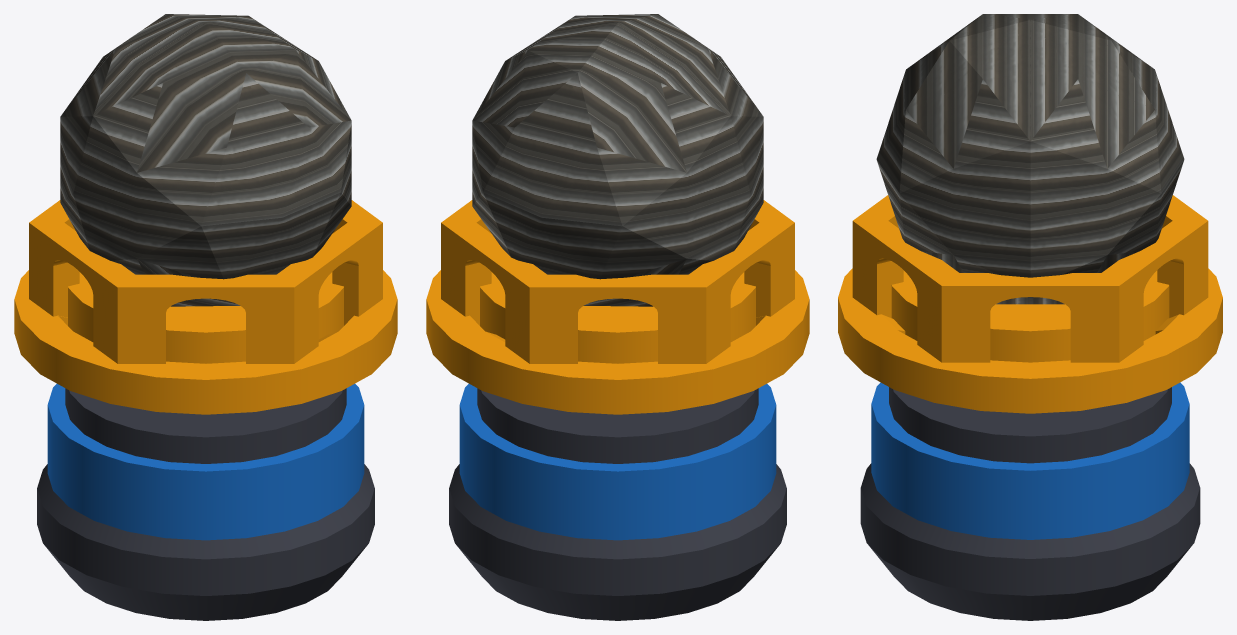
The model's file is tower_vivid_malachite.obj.
3 renders of one model, left to right at view 1: azimuth 30°, elevation 25°; view 2: azimuth 150°, elevation 25°; view 3: azimuth 270°, elevation 25°, orthographic.
Parts seen in each view (by area): view 1: mergedBlocks; view 2: mergedBlocks; view 3: mergedBlocks.
Part boxes in pixels (box(x1,y1,x2,y2)): mergedBlocks: box(14, 14, 397, 620); mergedBlocks: box(426, 14, 809, 620); mergedBlocks: box(838, 14, 1222, 620).
Bounding box in the file's own units: 1.09 × 1.69 × 1.09.
Materials: 5 (1 with a texture image).
